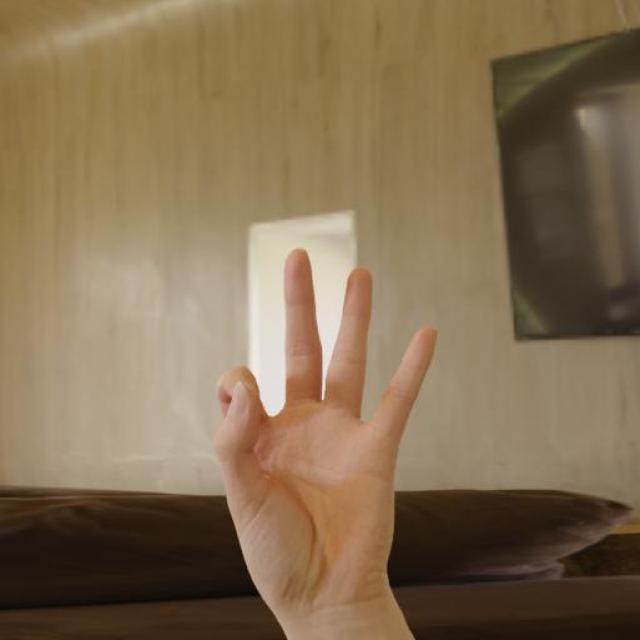F: (212, 245, 440, 607)
